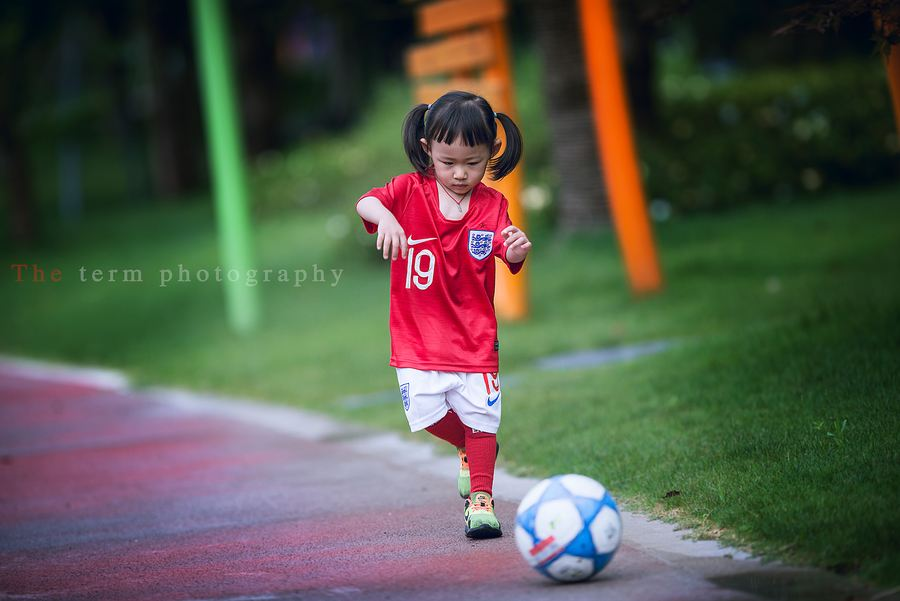football: (513, 473, 625, 585)
